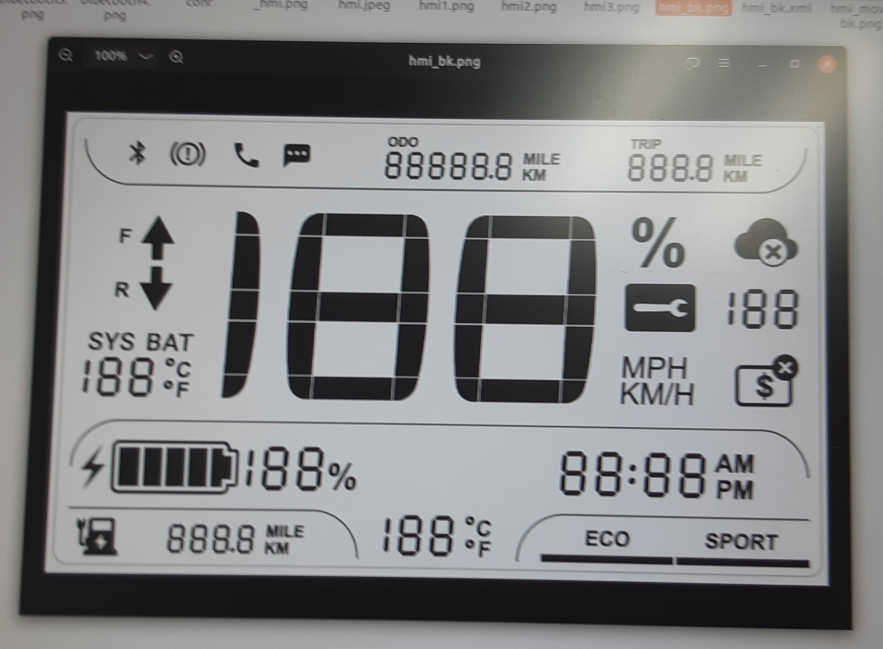bluetooth_on: (125, 137, 151, 169)
braking_on: (168, 137, 208, 171)
calling_on: (230, 140, 263, 170)
connection_lost: (729, 215, 802, 271)
error_code: (621, 279, 699, 336)
low_battery: (74, 512, 123, 561)
sms_on: (280, 141, 317, 171)
vin_id: (733, 352, 802, 410)
